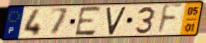3: (133, 5, 156, 36)
4: (22, 8, 44, 38)
7: (50, 8, 69, 38)
E: (73, 5, 103, 38)
F: (155, 3, 184, 37)
V: (105, 5, 128, 36)
